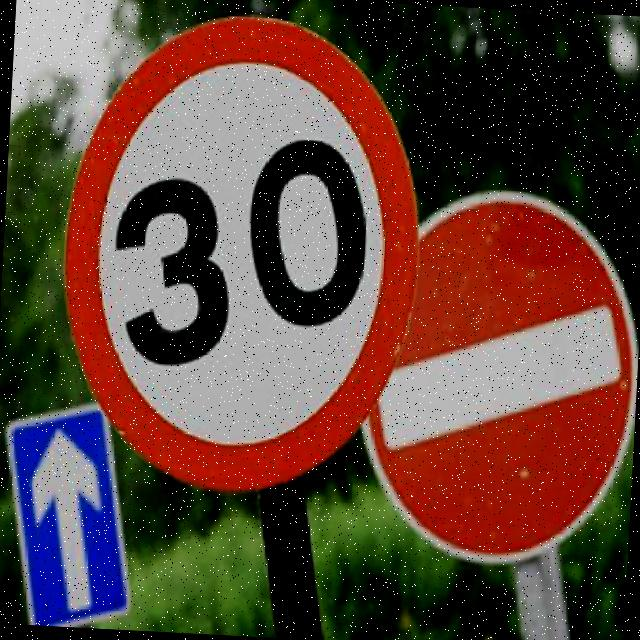Ograniczenie predkosci do 30: (72, 46, 400, 468)
Zakaz wjazdu: (363, 184, 640, 559)
